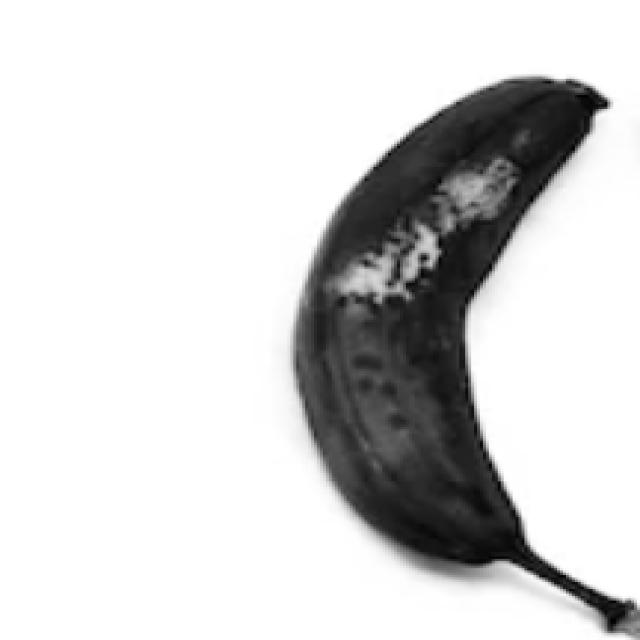Rotten: (263, 59, 639, 640)
